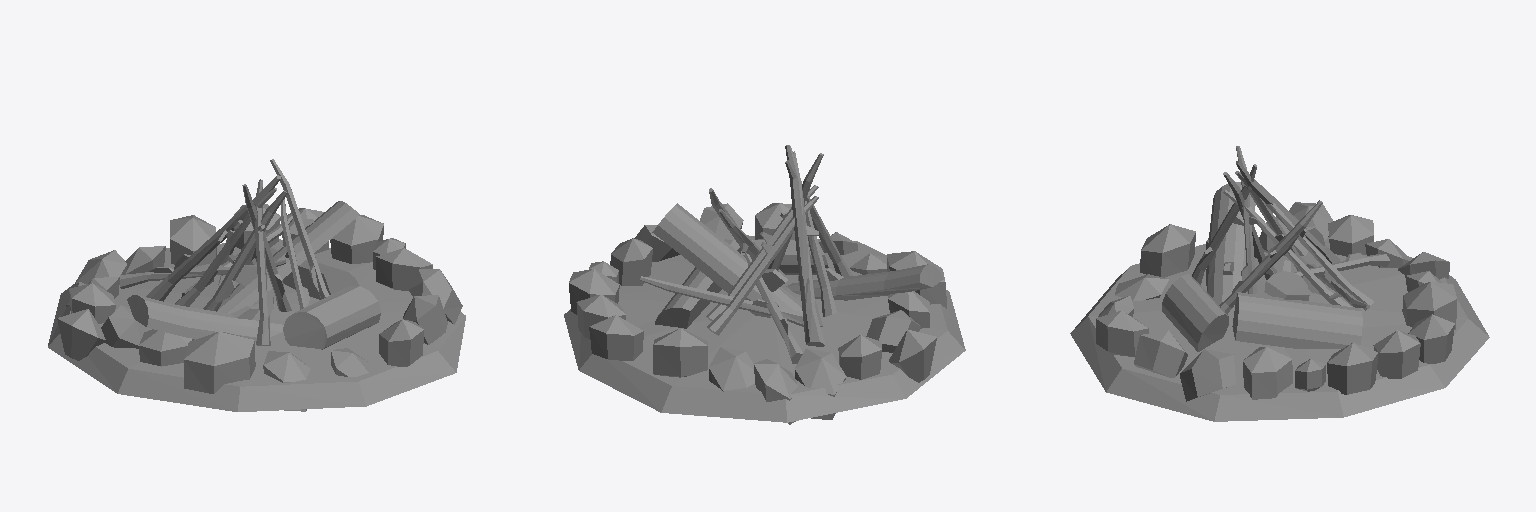
File: fireplace_1.obj
The picture shows the model from 3 angles: view 1: azimuth 30°, elevation 25°; view 2: azimuth 150°, elevation 25°; view 3: azimuth 270°, elevation 25°; orthographic projection.
Visible parts, largest first — view 1: Sphere017, Cylinder011, Cylinder002, Sphere007, Cylinder001, Sphere012, Sphere015, Cylinder015, Sphere020, Sphere004, Sphere001, Sphere014 (+16 smaller); view 2: Sphere017, Cylinder001, Cylinder002, Cylinder015, Sphere004, Sphere011, Cylinder008, Sphere006, Sphere020, Sphere013, Cylinder014, Sphere009 (+18 smaller); view 3: Sphere017, Cylinder008, Cylinder011, Cylinder002, Sphere007, Sphere001, Sphere012, Sphere016, Sphere004, Sphere008, Sphere005, Sphere015 (+17 smaller).
Boxes of the visible parts, <box> form: Sphere017: <box>48,239,465,411</box>; Cylinder011: <box>283,286,380,349</box>; Cylinder002: <box>127,295,284,341</box>; Sphere007: <box>184,332,255,393</box>; Cylinder001: <box>217,201,359,313</box>; Sphere012: <box>330,215,383,263</box>; Sphere015: <box>379,319,423,366</box>; Cylinder015: <box>146,175,280,301</box>; Sphere020: <box>57,309,105,360</box>; Sphere004: <box>170,215,216,267</box>; Sphere001: <box>376,248,432,291</box>; Sphere014: <box>139,329,194,366</box>; Sphere017: <box>564,235,965,422</box>; Cylinder001: <box>652,203,802,317</box>; Cylinder002: <box>786,264,943,300</box>; Cylinder015: <box>785,145,824,346</box>; Sphere004: <box>653,328,707,377</box>; Sphere011: <box>589,315,643,360</box>; Cylinder008: <box>655,239,741,328</box>; Sphere006: <box>795,348,845,419</box>; Sphere020: <box>889,329,936,382</box>; Sphere013: <box>709,347,754,391</box>; Cylinder014: <box>707,196,818,335</box>; Sphere009: <box>838,335,881,379</box>; Sphere017: <box>1070,237,1489,421</box>; Cylinder008: <box>1232,292,1362,348</box>; Cylinder011: <box>1162,274,1228,351</box>; Cylinder002: <box>1206,182,1255,305</box>; Sphere007: <box>1140,224,1195,277</box>; Sphere001: <box>1243,347,1292,399</box>; Sphere012: <box>1327,343,1378,394</box>; Sphere016: <box>1180,349,1235,401</box>; Sphere004: <box>1402,282,1456,329</box>; Sphere008: <box>1134,330,1187,377</box>; Sphere005: <box>1373,330,1420,378</box>; Sphere015: <box>1096,311,1148,356</box>.
Size of the model in its own units: 85.86 by 44.19 by 87.9.